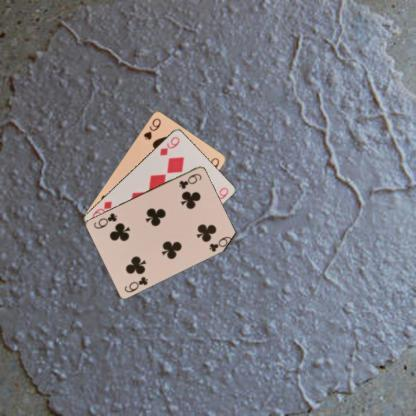6c: (176, 170, 203, 191), (122, 274, 149, 294)
9d: (157, 134, 181, 157)
9s: (140, 115, 162, 141)
